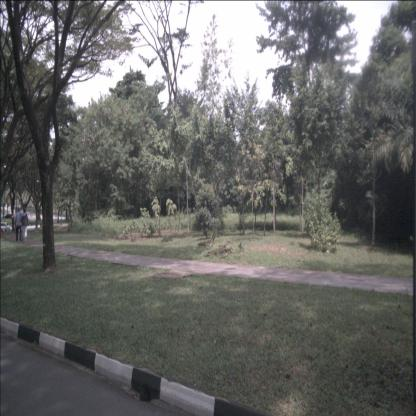human-pedestrian-adult: (14, 207, 28, 241), (18, 207, 29, 242)
vehicle-car: (0, 222, 10, 233)
